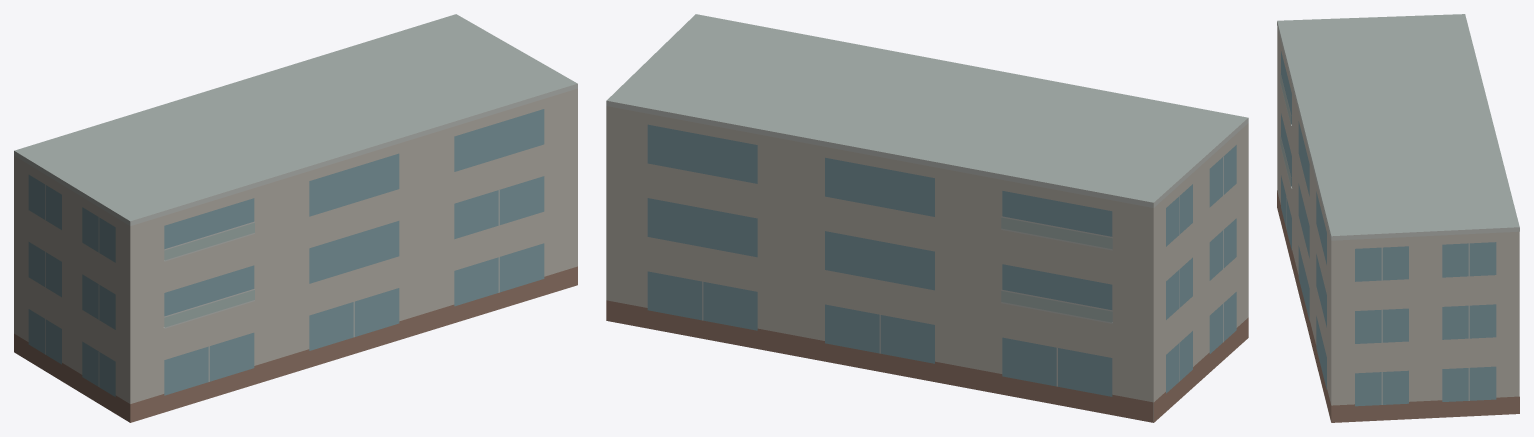
File: survey-upis-33024947.glb
3 renders of one model, left to right at view 1: azimuth 30°, elevation 25°; view 2: azimuth 150°, elevation 25°; view 3: azimuth 270°, elevation 25°, orthographic. The views are drawn at different scales.
Parts seen in each view (by area): view 1: survey-upis-33024947.tmp; view 2: survey-upis-33024947.tmp; view 3: survey-upis-33024947.tmp.
Boxes of the visible parts, bbox=[...] form: survey-upis-33024947.tmp: bbox=[14, 14, 577, 422]; survey-upis-33024947.tmp: bbox=[606, 14, 1248, 422]; survey-upis-33024947.tmp: bbox=[1277, 14, 1519, 422].
Bounding box in the file's own units: 25.79 × 10.1 × 11.91.
